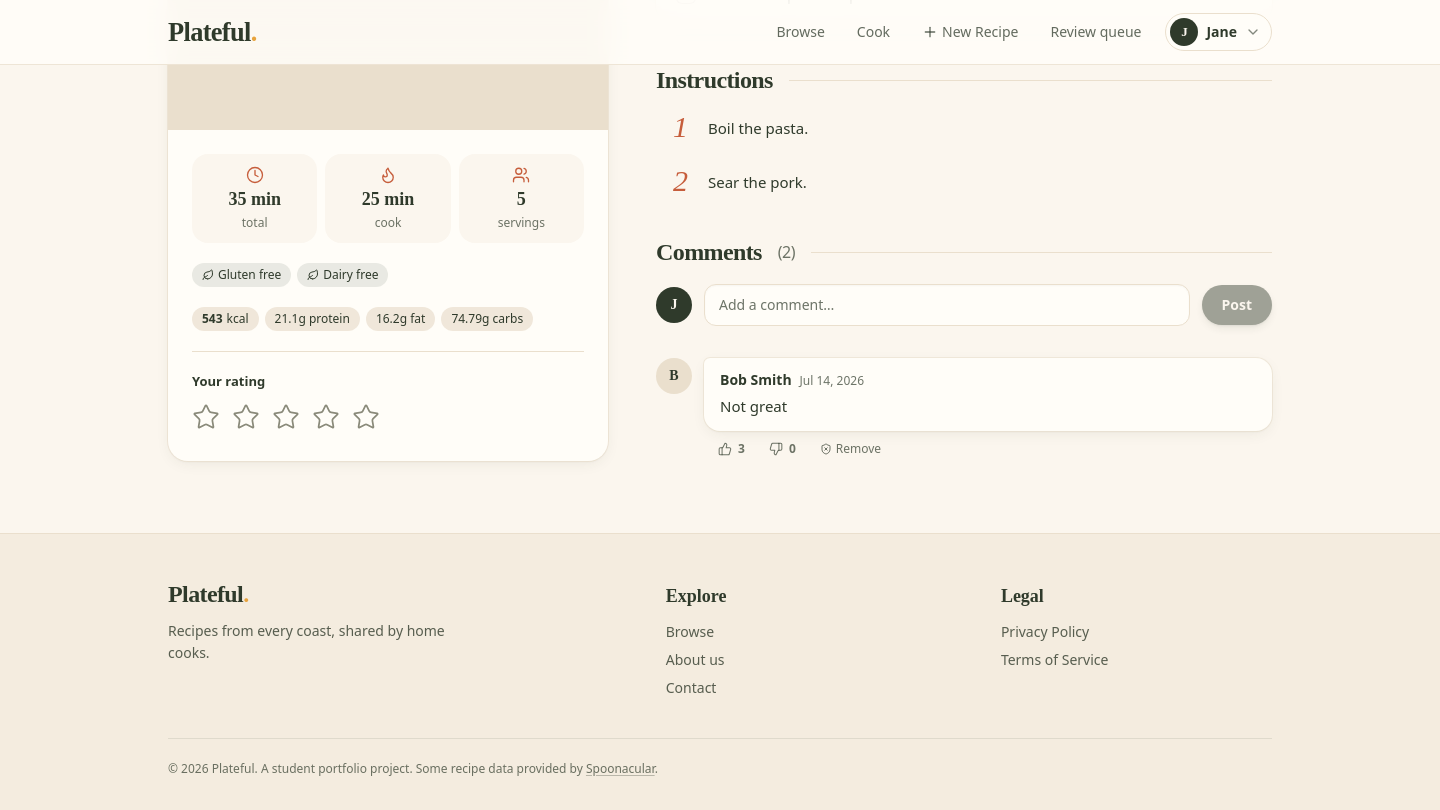
Scenario: removing a comment › a 400 shows the reason error in the dialog
(page scrolled)
Click the button named "remove comment by" at point(850, 448), box x1=810 y1=436 x2=891 y2=460
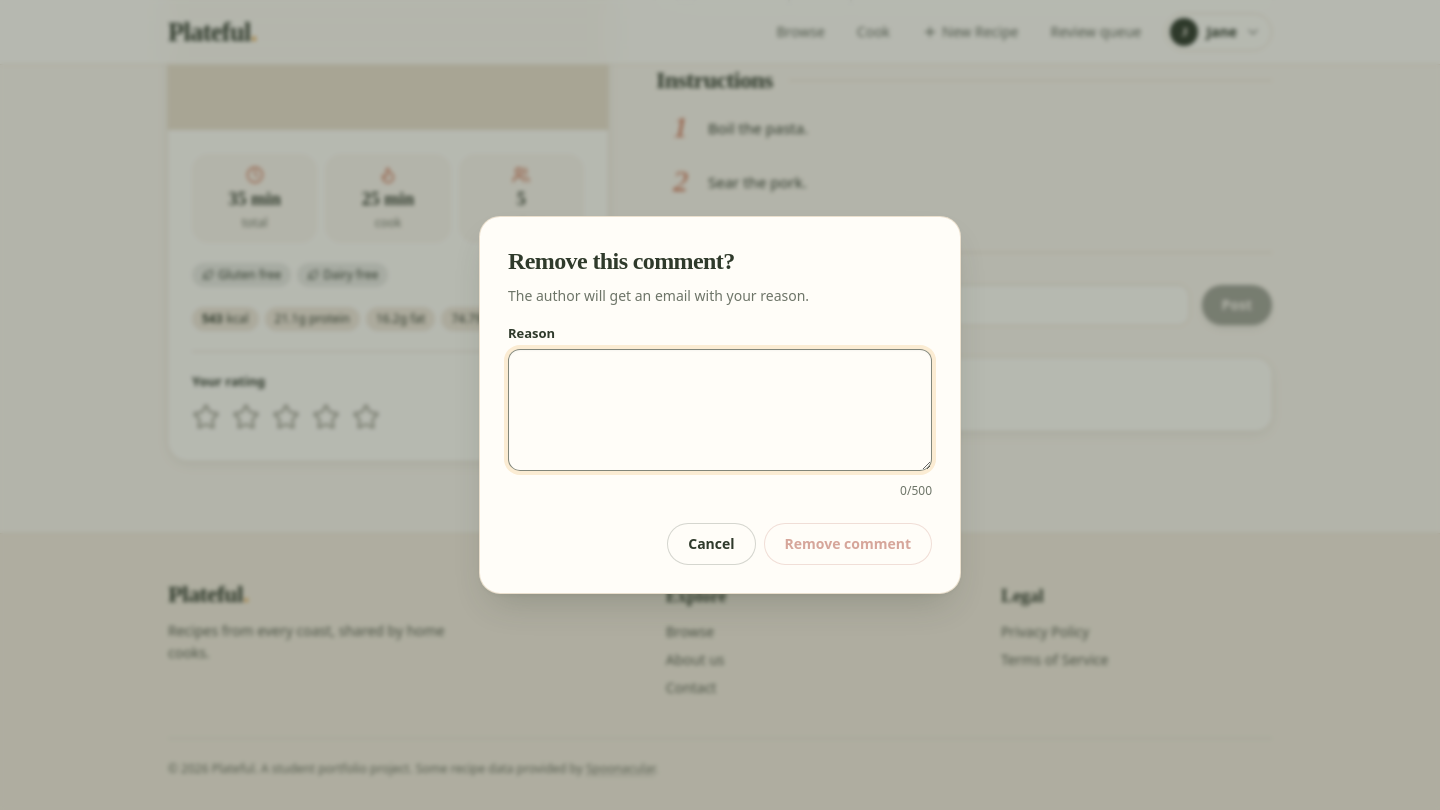
Type "x" into the text box labelled "Reason" at point(720, 410), box x1=508 y1=349 x2=932 y2=471
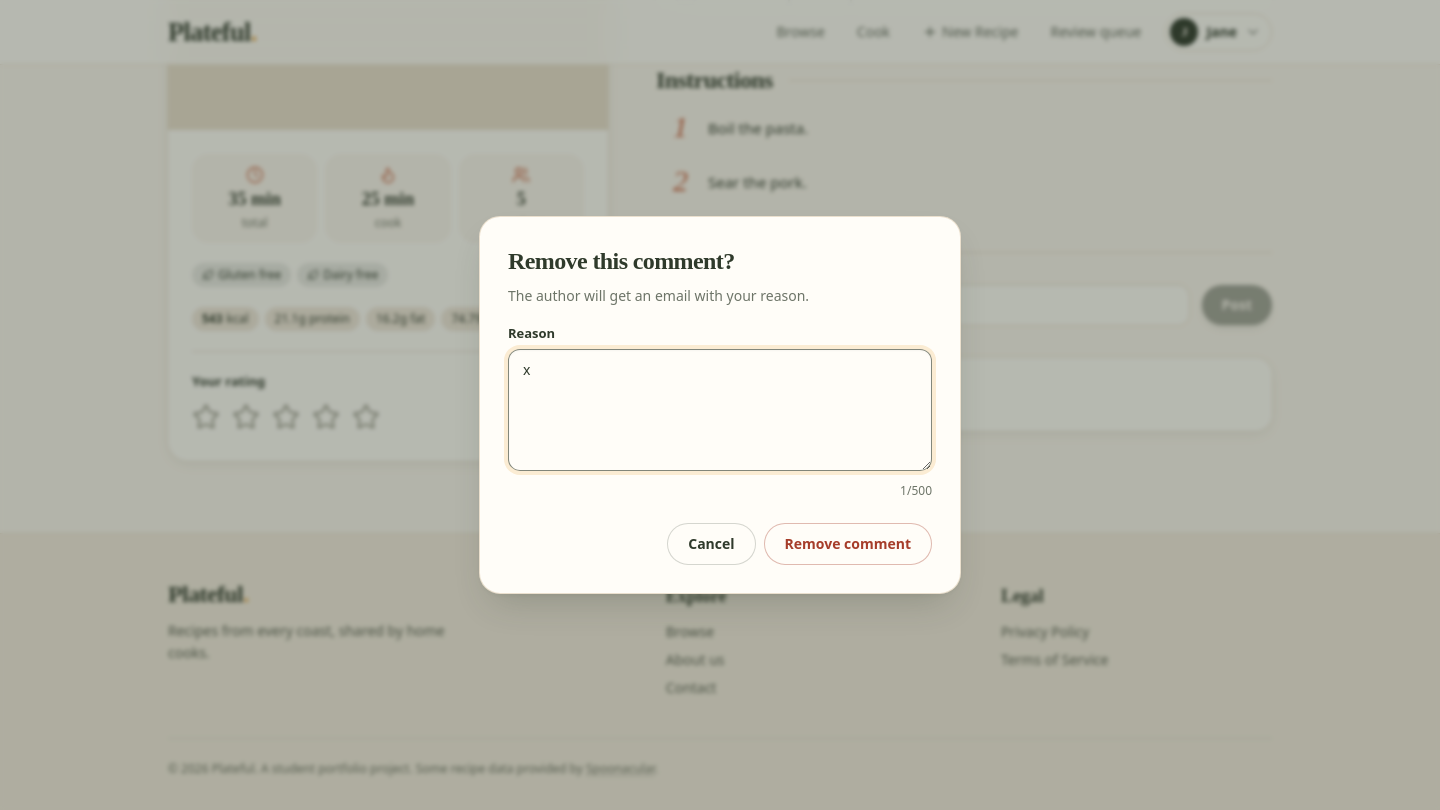
Click the button "Remove comment" at point(848, 544), box x1=764 y1=523 x2=932 y2=565
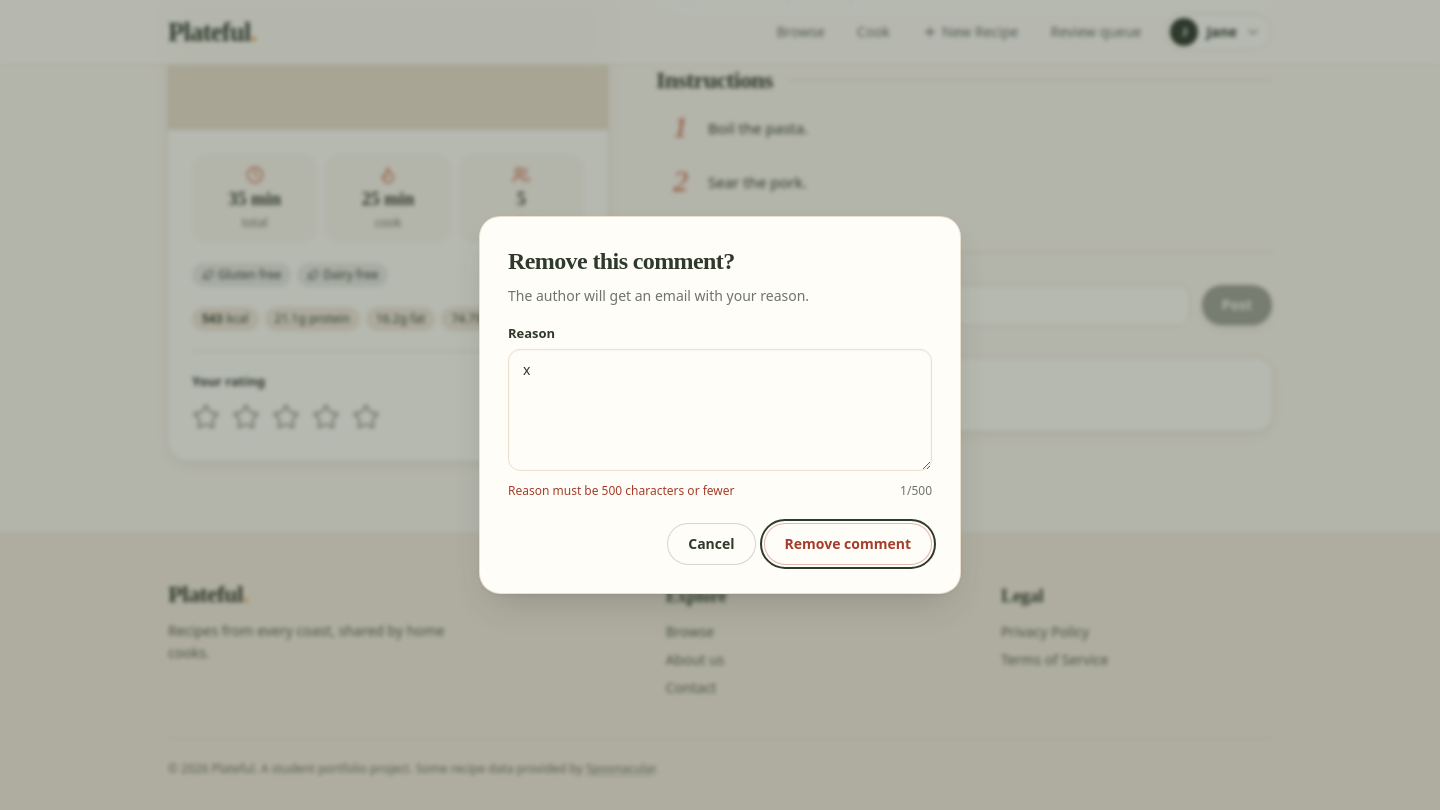
Check: the message reads "Reason must be 500 characters or fewer", box x1=508 y1=482 x2=734 y2=499
